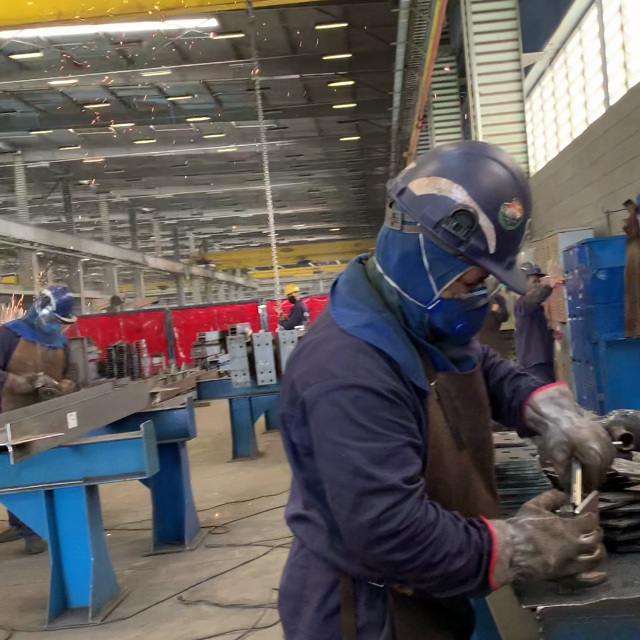face-shield: (415, 236, 507, 315)
glove: (484, 486, 608, 594), (525, 381, 616, 483)
helmet: (384, 140, 534, 296)
person: (277, 139, 617, 630)
